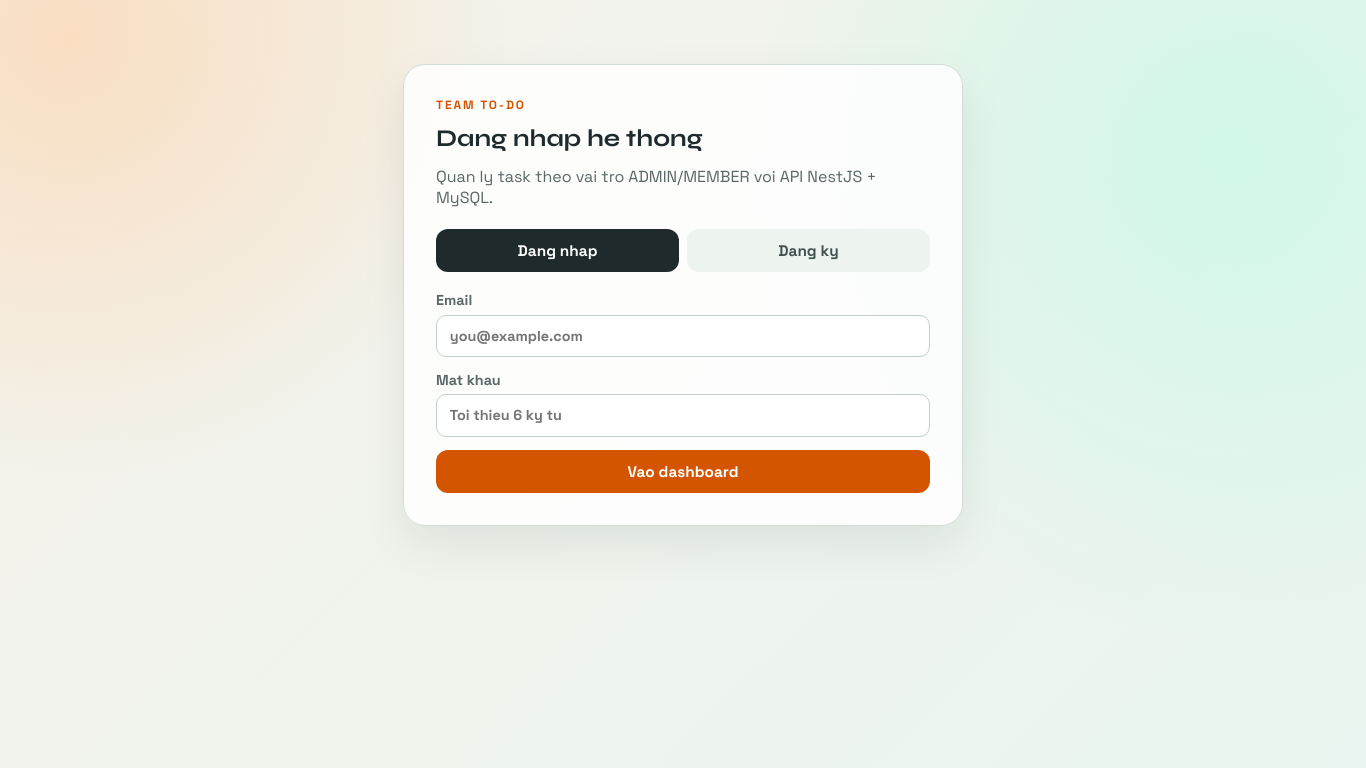
Scenario: AuthPage › switches to register mode when Dang ky button is clicked
This screenshot has width=1366, height=768.
Click the button "Dang ky": (808, 250) [687,229,930,272]
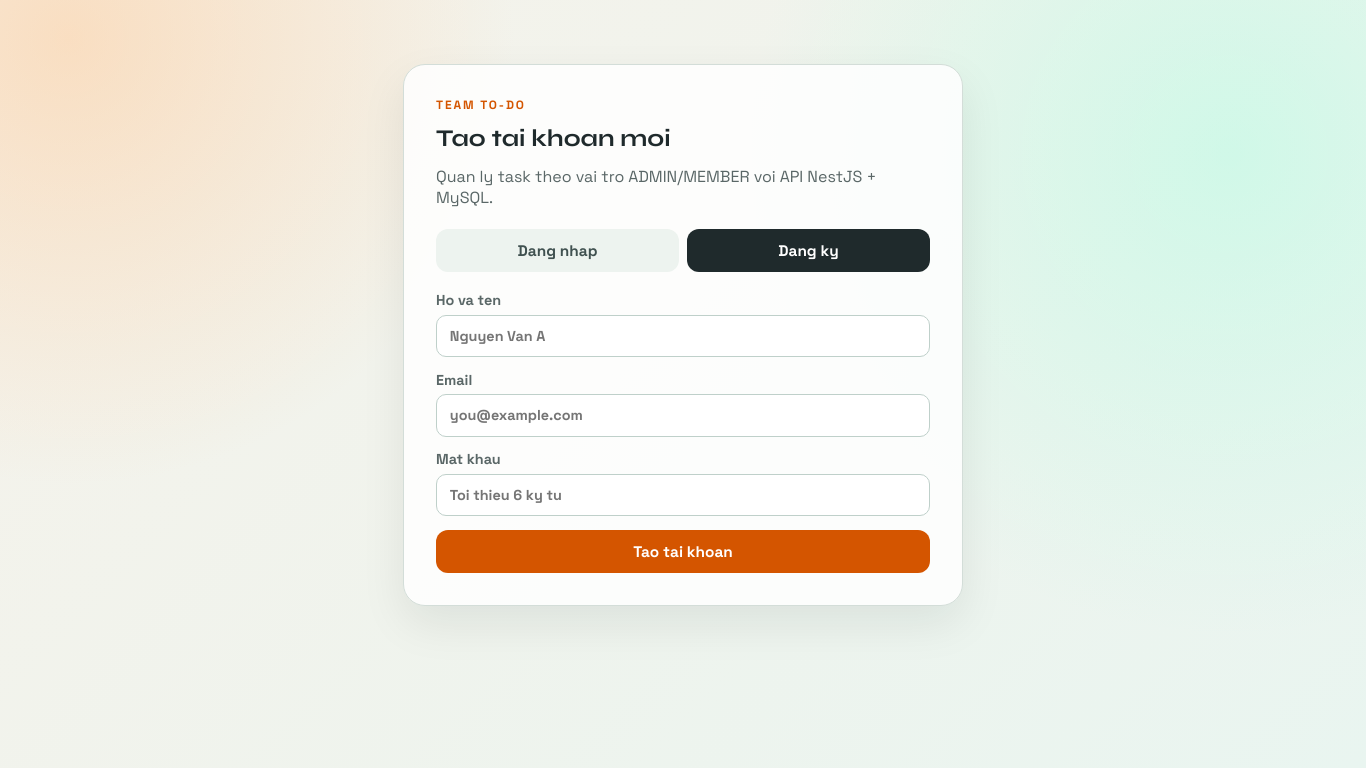
Expected: the heading "Tao tai khoan moi" is shown, [436,124,671,153]
Expected: the field with placeholder "Nguyen Van A" is shown, [436,315,930,357]
